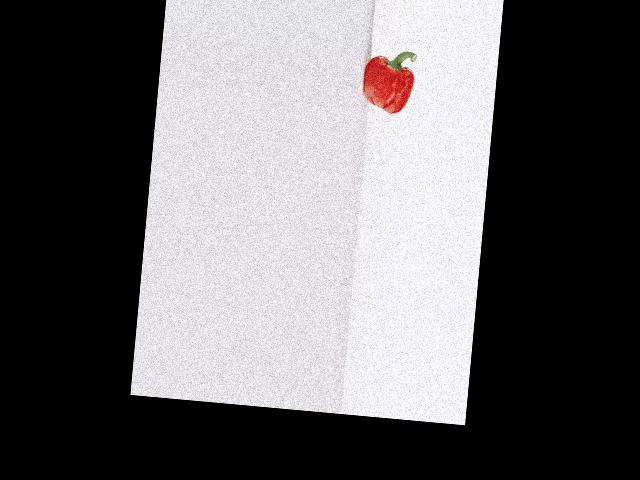bell_pepper: (358, 41, 420, 118)
